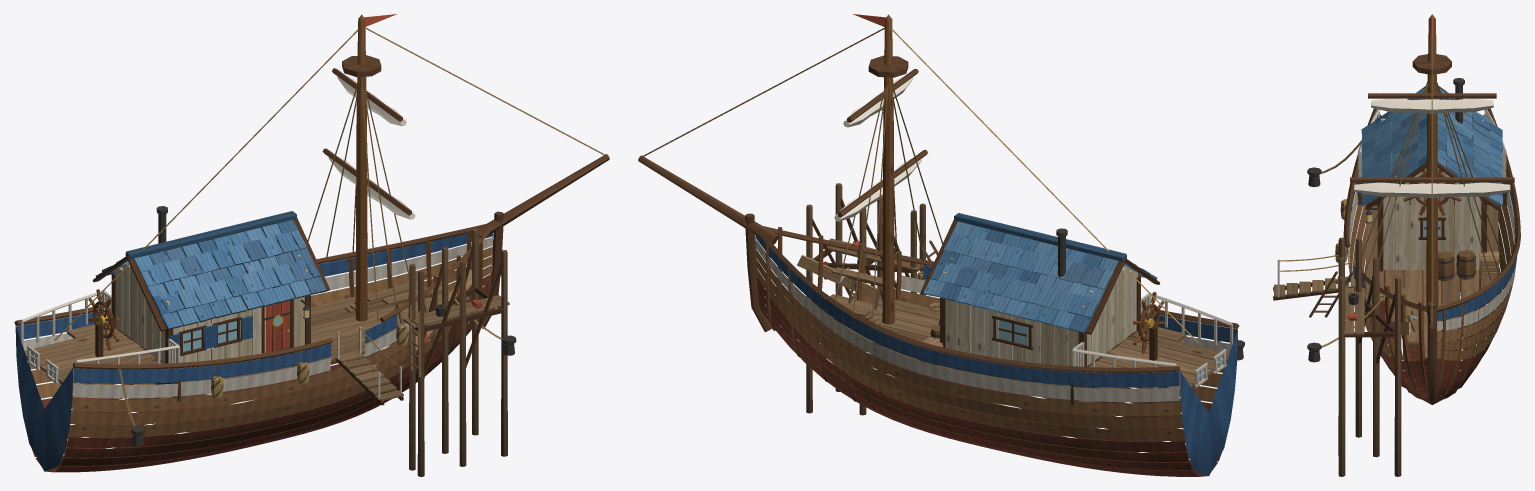
Rendered from shipwright-ship.glb.
3 views of the same model, side by side, from view 1: azimuth 30°, elevation 25°; view 2: azimuth 150°, elevation 25°; view 3: azimuth 270°, elevation 25° (orthographic). The views are drawn at different scales.
Visible parts, largest first — view 1: shipwright-ship; view 2: shipwright-ship; view 3: shipwright-ship.
Part boxes in pixels (x1,y1,x2,y2): shipwright-ship: [14, 14, 609, 476]; shipwright-ship: [638, 14, 1244, 476]; shipwright-ship: [1273, 14, 1520, 476].
Size of the model in its own units: 17.73 by 12.85 by 6.94.
5 materials, 2 textured.
